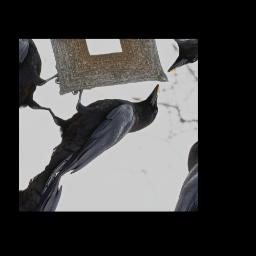Crow: (20, 45, 174, 199)
